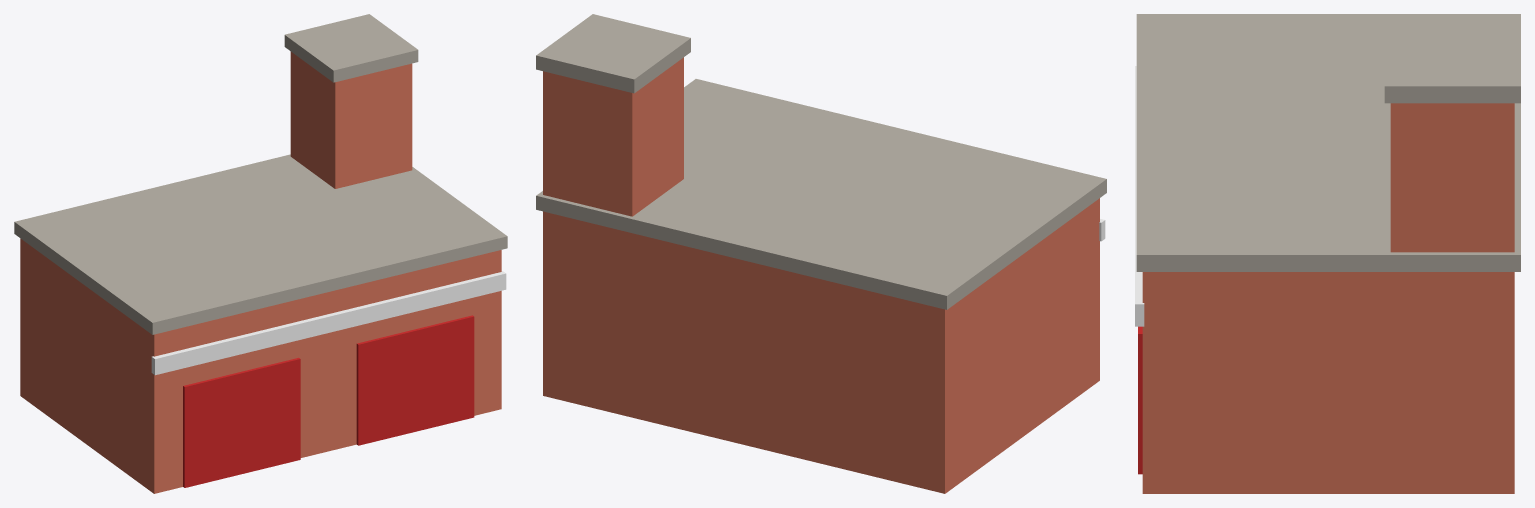
Rendered from fire_station.glb.
The picture shows the model from 3 angles, left to right: view 1: azimuth 30°, elevation 25°; view 2: azimuth 150°, elevation 25°; view 3: azimuth 270°, elevation 25°; orthographic projection. The views are drawn at different scales.
Visible parts, largest first — view 1: fire_station_brick, fire_station_roof_flat, fire_station_fire_red, fire_station_white; view 2: fire_station_brick, fire_station_roof_flat; view 3: fire_station_brick, fire_station_roof_flat, fire_station_white, fire_station_fire_red.
Boxes of the visible parts, bbox=[...] form: fire_station_brick: bbox=[20, 51, 501, 493]; fire_station_roof_flat: bbox=[14, 14, 507, 334]; fire_station_fire_red: bbox=[183, 315, 474, 487]; fire_station_white: bbox=[151, 271, 506, 375]; fire_station_brick: bbox=[543, 57, 1099, 493]; fire_station_roof_flat: bbox=[536, 14, 1106, 309]; fire_station_brick: bbox=[1142, 103, 1514, 493]; fire_station_roof_flat: bbox=[1136, 14, 1520, 271]; fire_station_white: bbox=[1135, 66, 1144, 326]; fire_station_fire_red: bbox=[1138, 326, 1142, 474].
Size of the model in its own units: 18.4 by 14.6 by 12.45.
